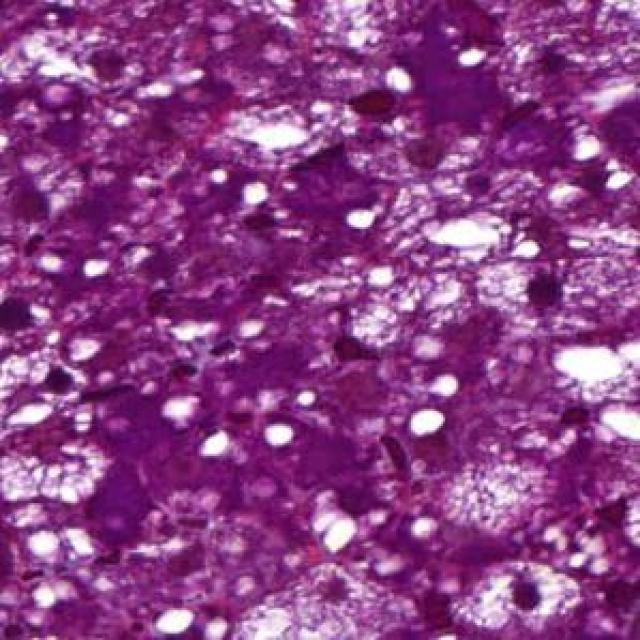ballooning: (462, 246, 632, 340)
